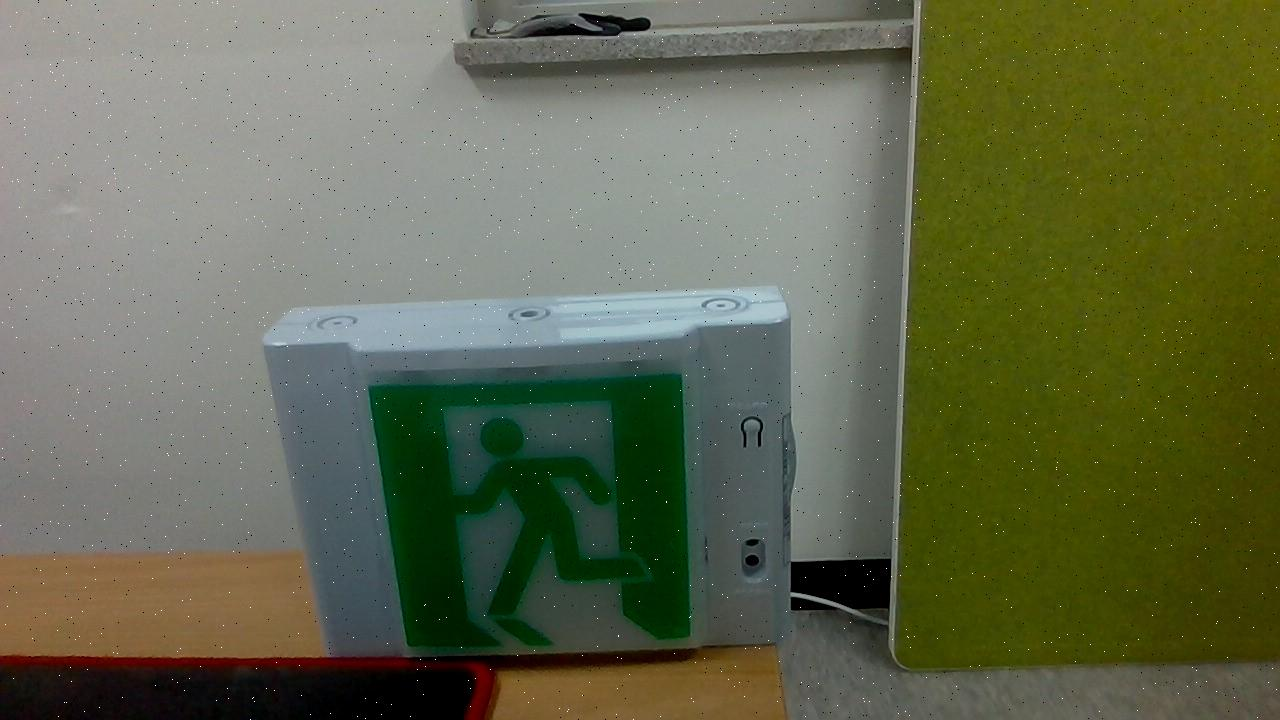emergency_exit: (262, 286, 796, 663)
